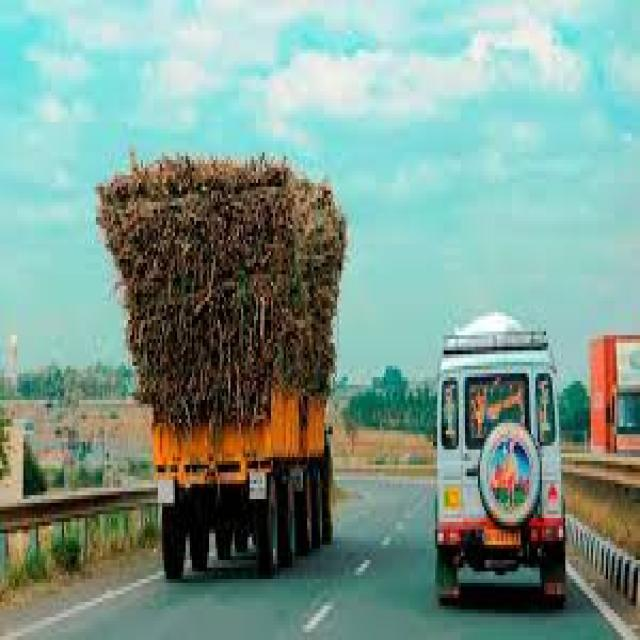uncovered: (94, 153, 344, 566)
